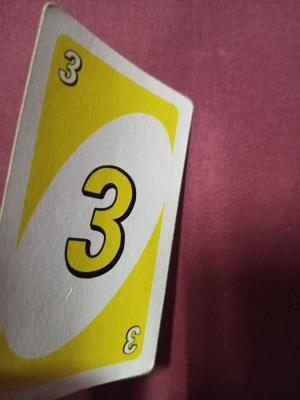num_3: (61, 137, 146, 315)
yellow: (49, 41, 97, 115)
